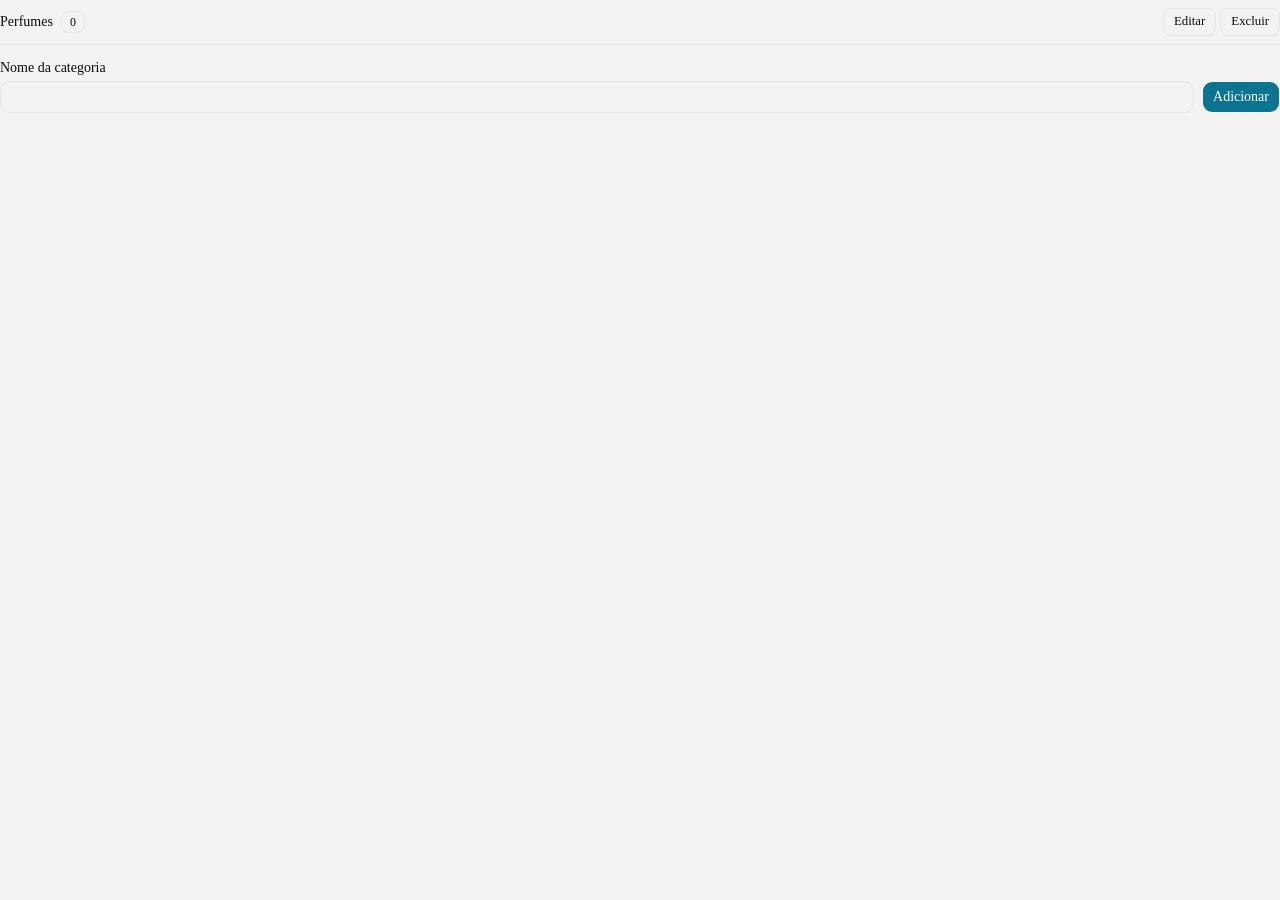
CategoryList › deletes a category after confirming in the dialog
Expected: the text "Perfumes" is shown, [0, 12, 53, 32]
Step 1. Click the button with aria-label "excluir perfumes" → {"x": 1250, "y": 22}, box [1220, 8, 1279, 36]
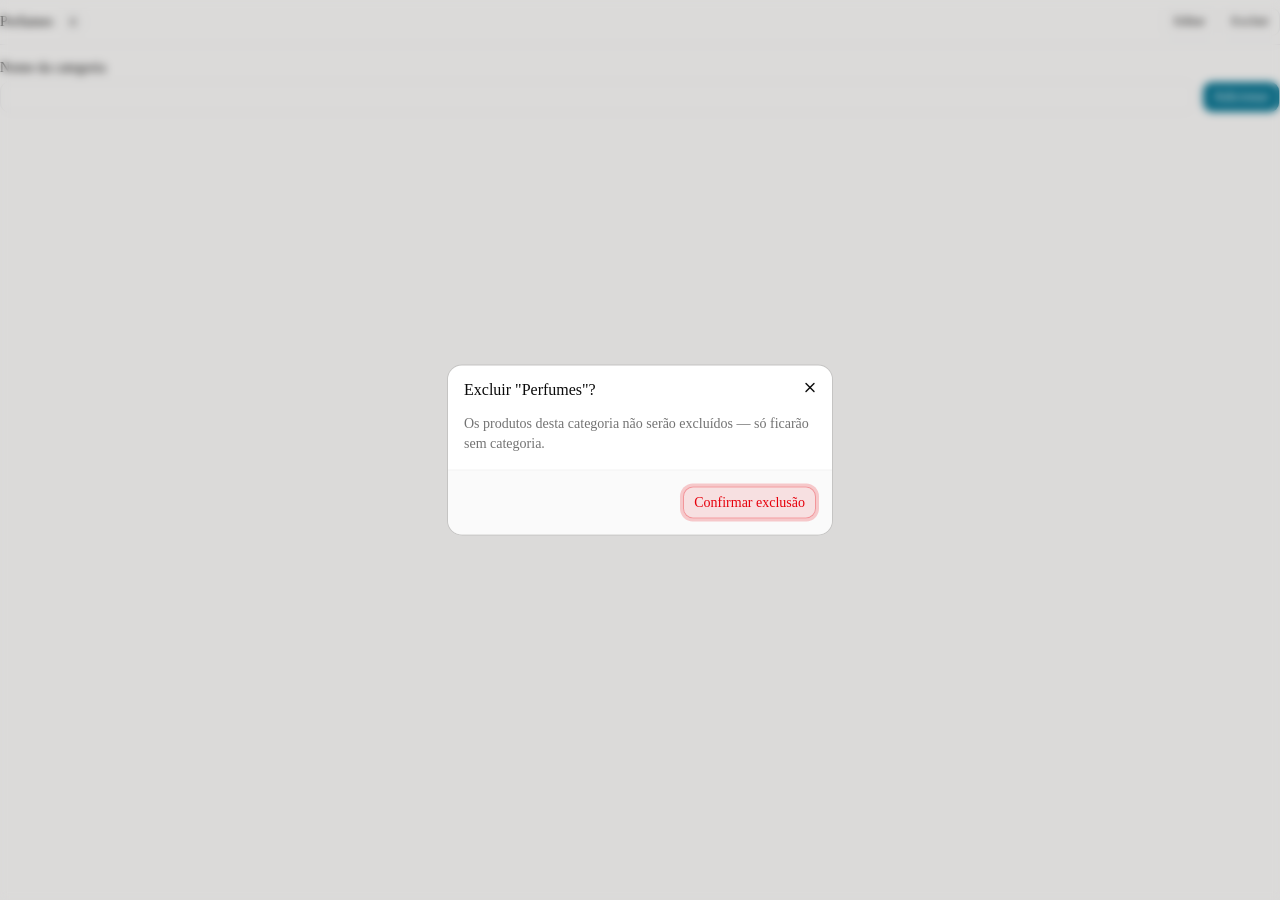
Step 2. Click the button "Confirmar exclusão" → {"x": 750, "y": 502}, box [683, 486, 816, 518]
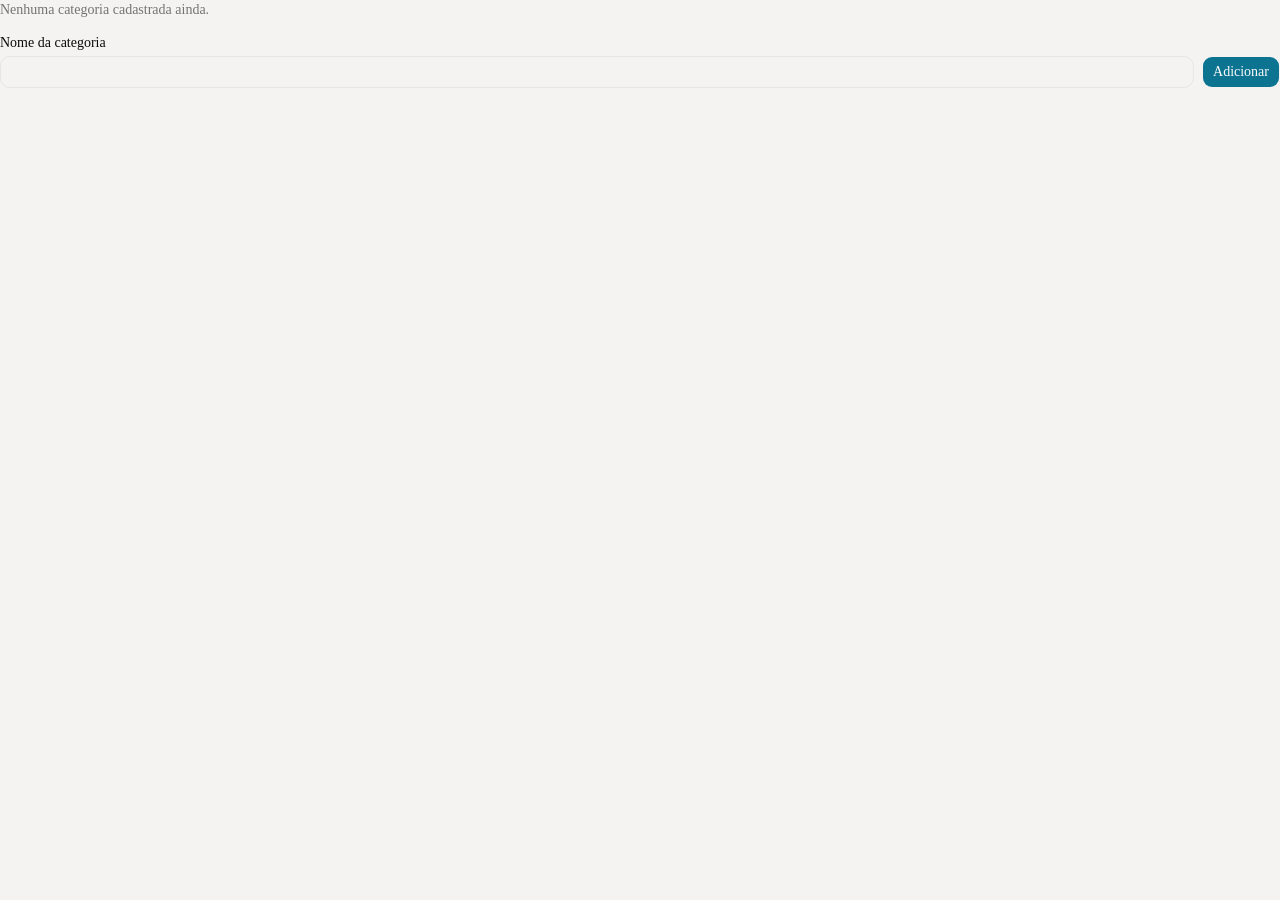
Now the text "Perfumes" is gone
